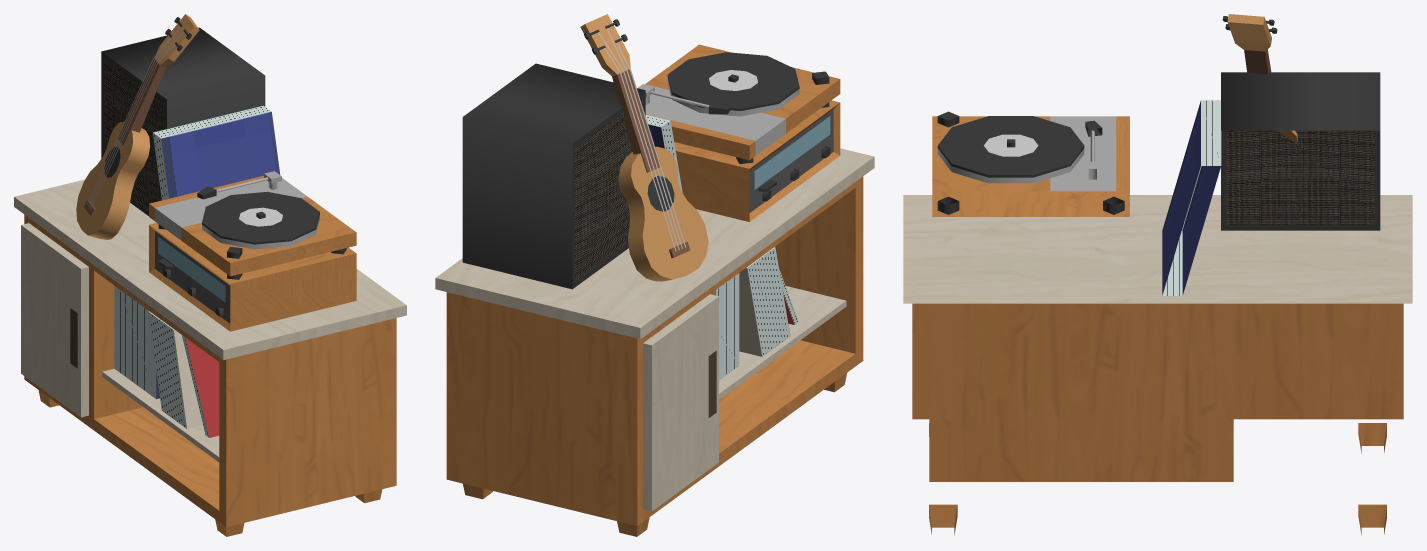
Rendered from interior_A_008.fbx.
The picture shows the model from 3 angles, left to right: view 1: azimuth 30°, elevation 25°; view 2: azimuth 150°, elevation 25°; view 3: azimuth 270°, elevation 25°; orthographic projection. The views are drawn at different scales.
Parts seen in each view (by area): view 1: interior_A_008; view 2: interior_A_008; view 3: interior_A_008.
Part boxes in pixels (box(x1,y1,x2,y2)): interior_A_008: box(14, 14, 406, 536); interior_A_008: box(435, 14, 874, 536); interior_A_008: box(903, 14, 1412, 535).
Bounding box in the file's own units: 67.39 × 139 × 132.
Materials: 14 (5 with a texture image).
